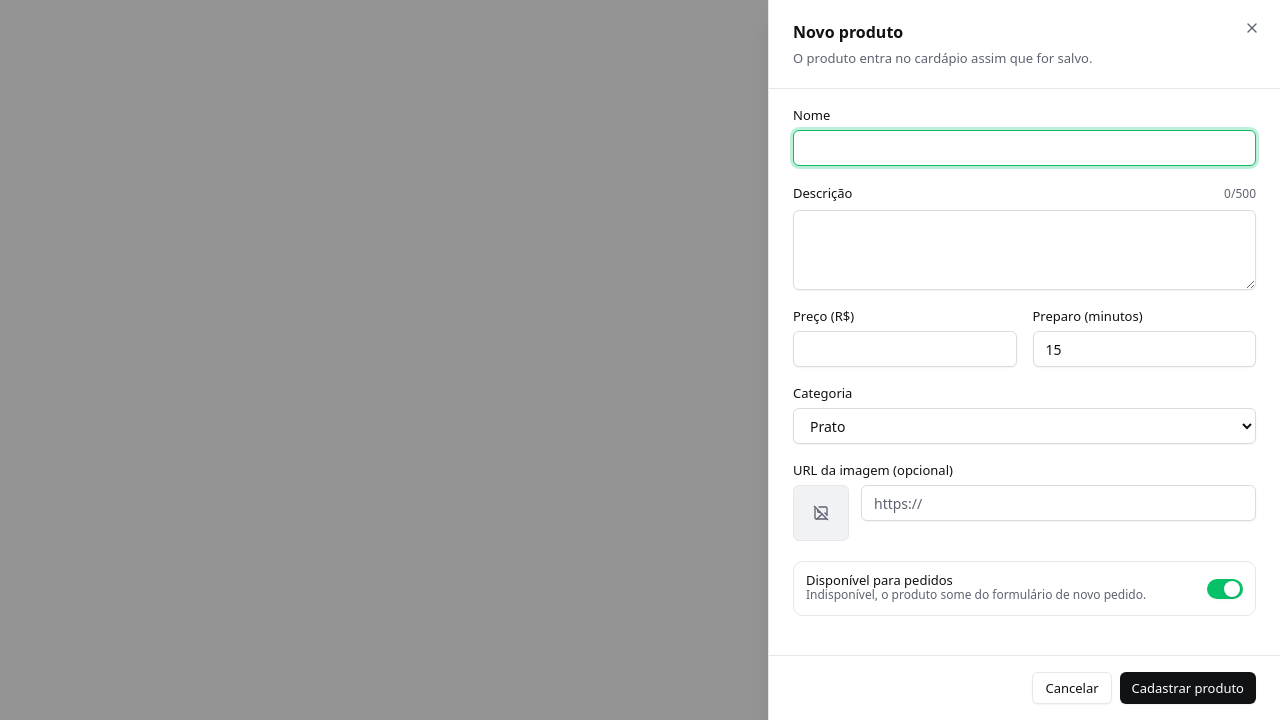
Test: ProductFormSheet › shows the shared schema errors and sends nothing while the form is invalid
In the field labelled "Nome": (1024, 148) [793, 130, 1256, 166], type "X"
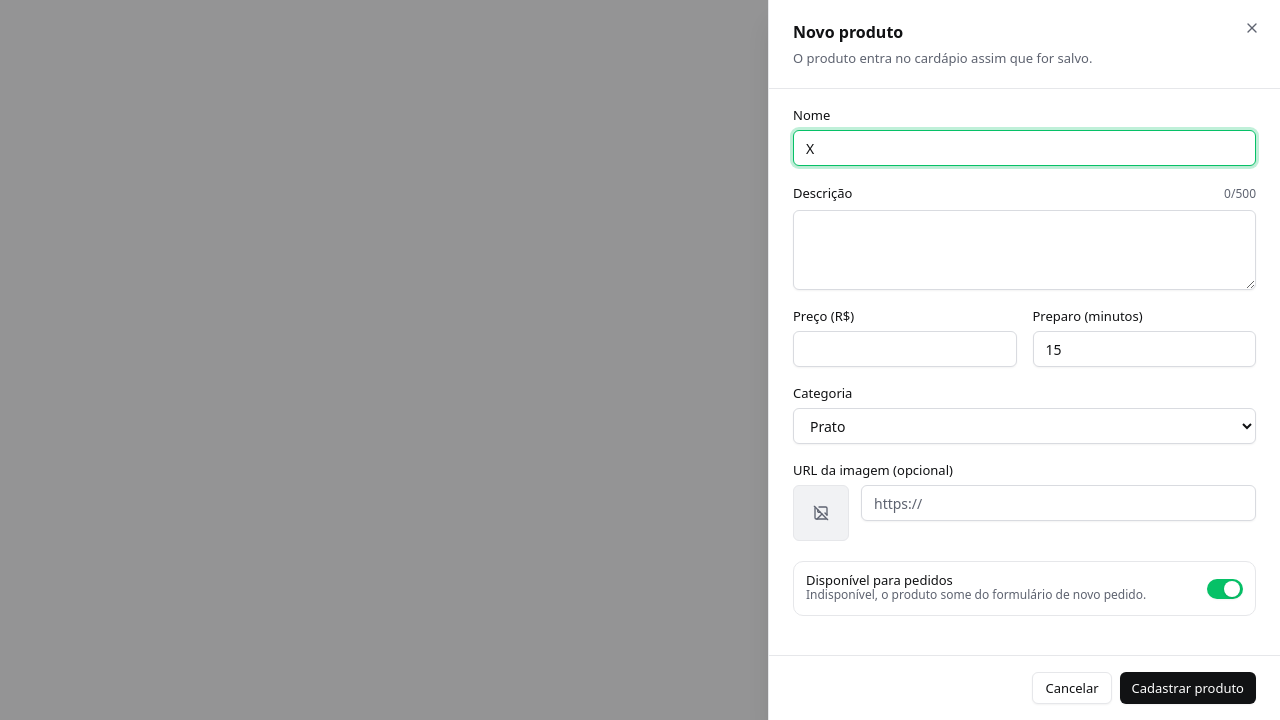
In the number field labelled "Preço (R$)": (905, 349) [793, 331, 1016, 367], type "12.345"
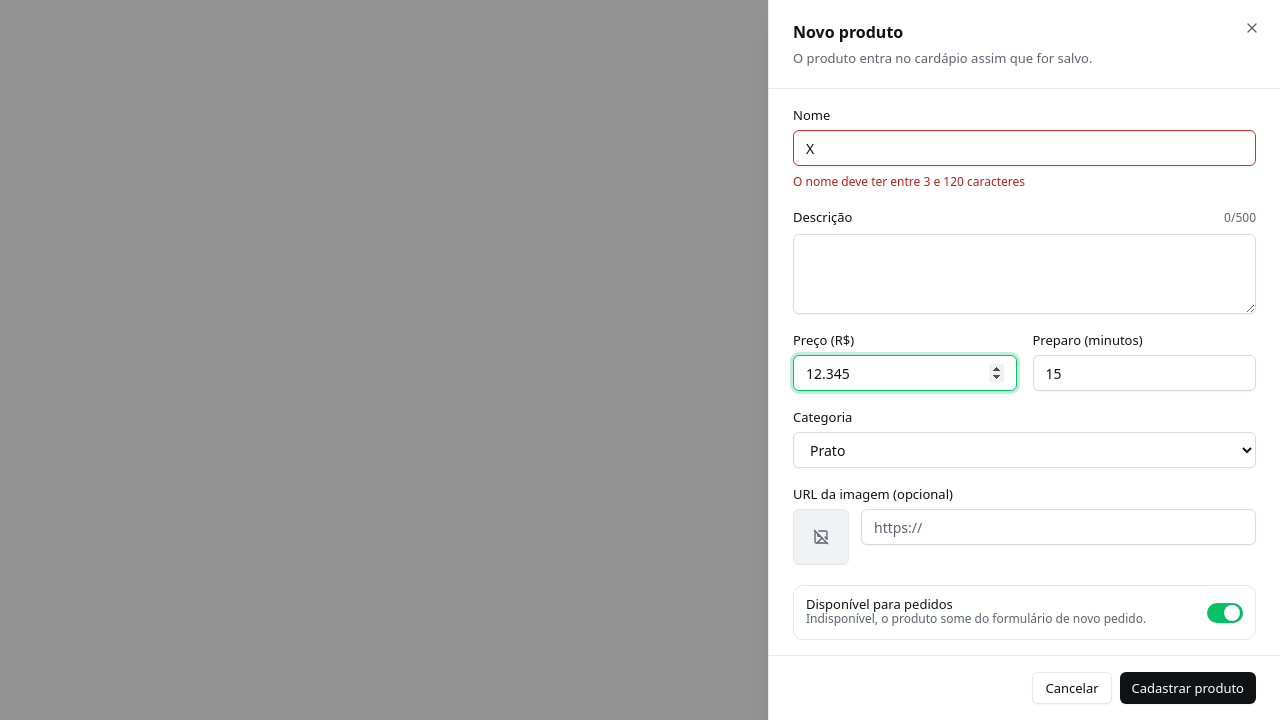
In the field labelled "URL da imagem (opcional)": (1058, 527) [861, 509, 1256, 545], type "ftp://imagem"
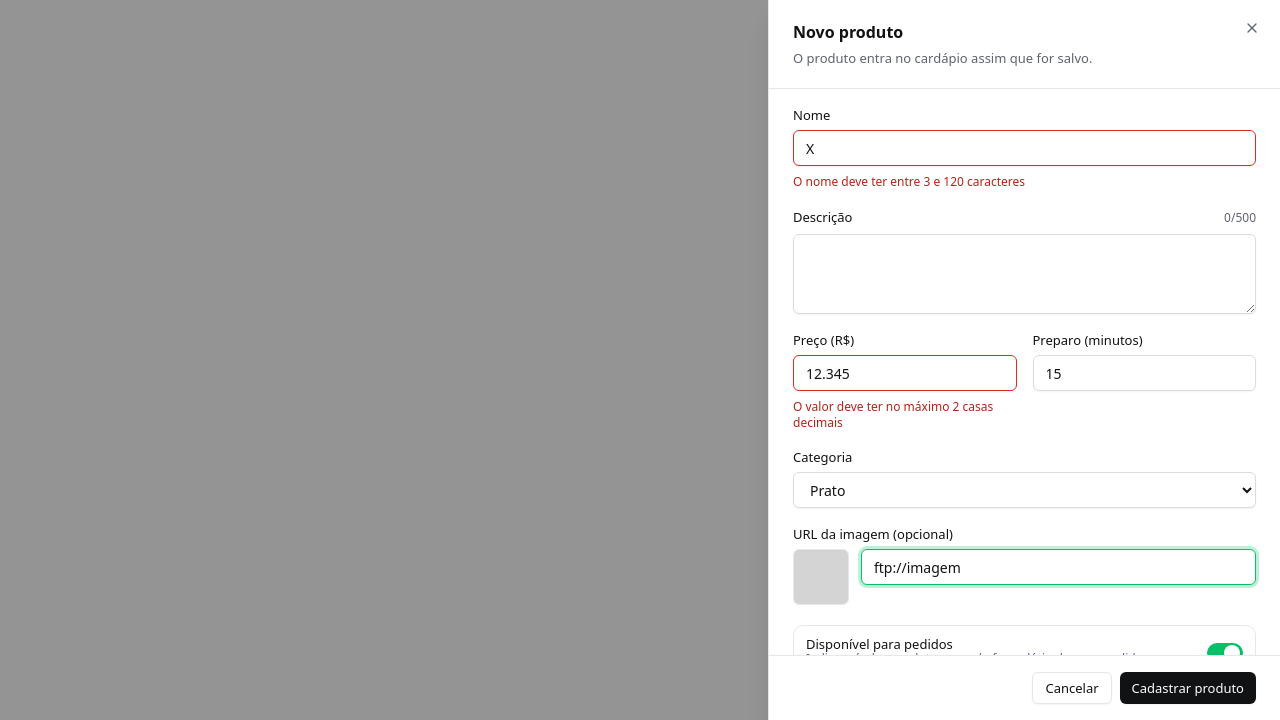
Click the button "Cadastrar produto": (1188, 688) [1120, 672, 1256, 704]
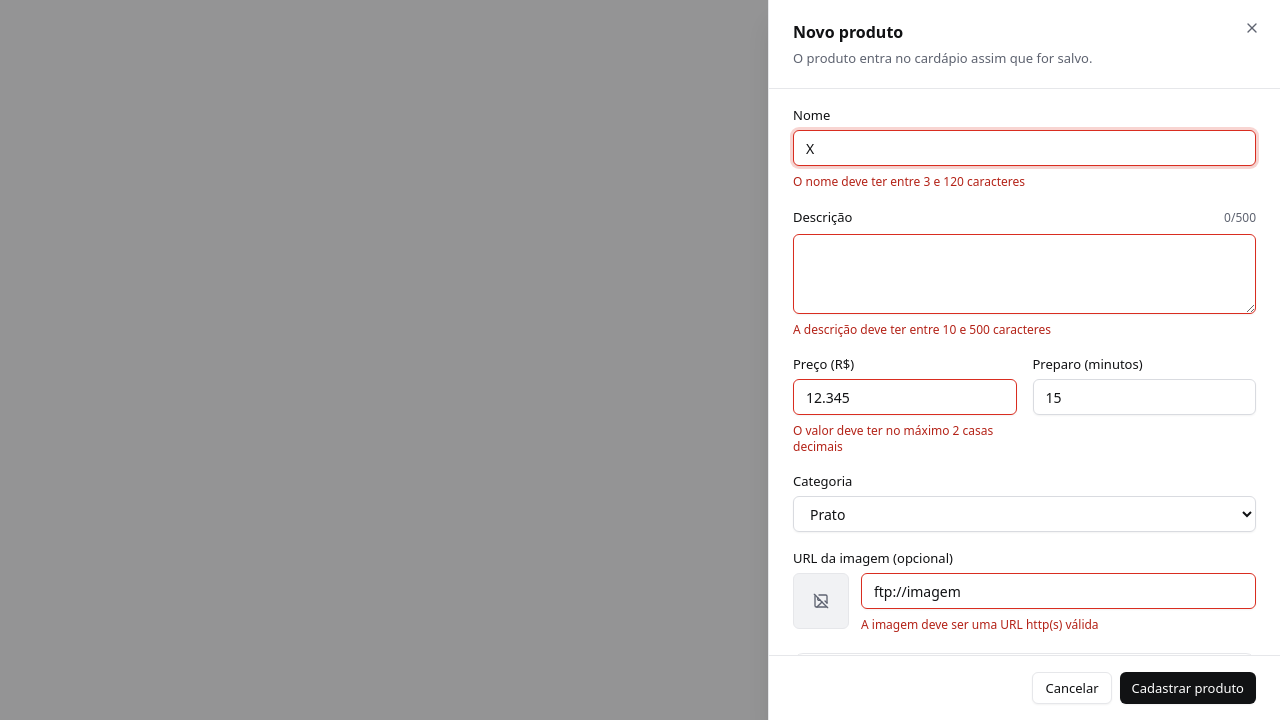
Expected: the text "O nome deve ter entre 3 e 120 caracteres" is shown, [793, 173, 1025, 190]
Expected: the text "O valor deve ter no máximo 2 casas decimais" is shown, [793, 423, 1016, 455]
Expected: the text "A descrição deve ter entre 10 e 500 caracteres" is shown, [793, 321, 1051, 338]
